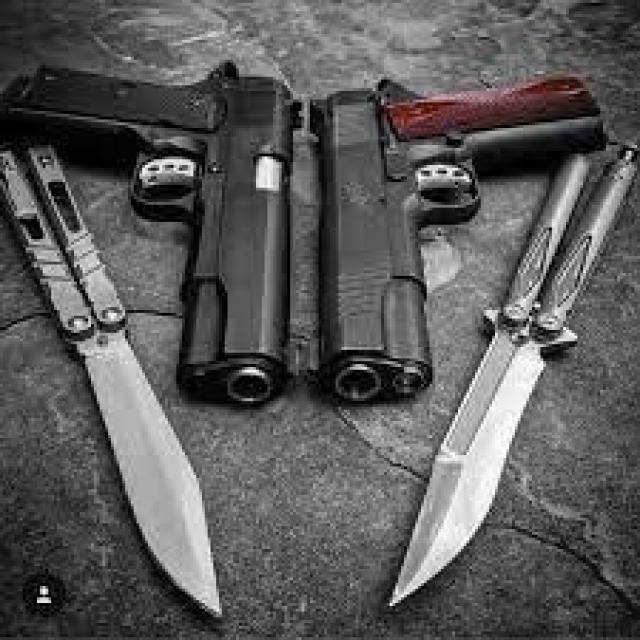Knife: (387, 145, 640, 606), (0, 145, 225, 620)
Pistol: (0, 57, 302, 404), (307, 74, 606, 404)
